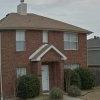Chimney: (14, 1, 35, 28)
